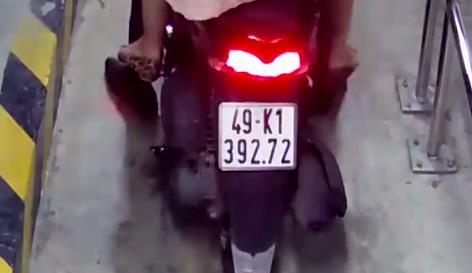lisence: (217, 100, 296, 172)
